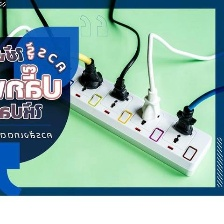three_eye_plug: (0, 27, 215, 179)
